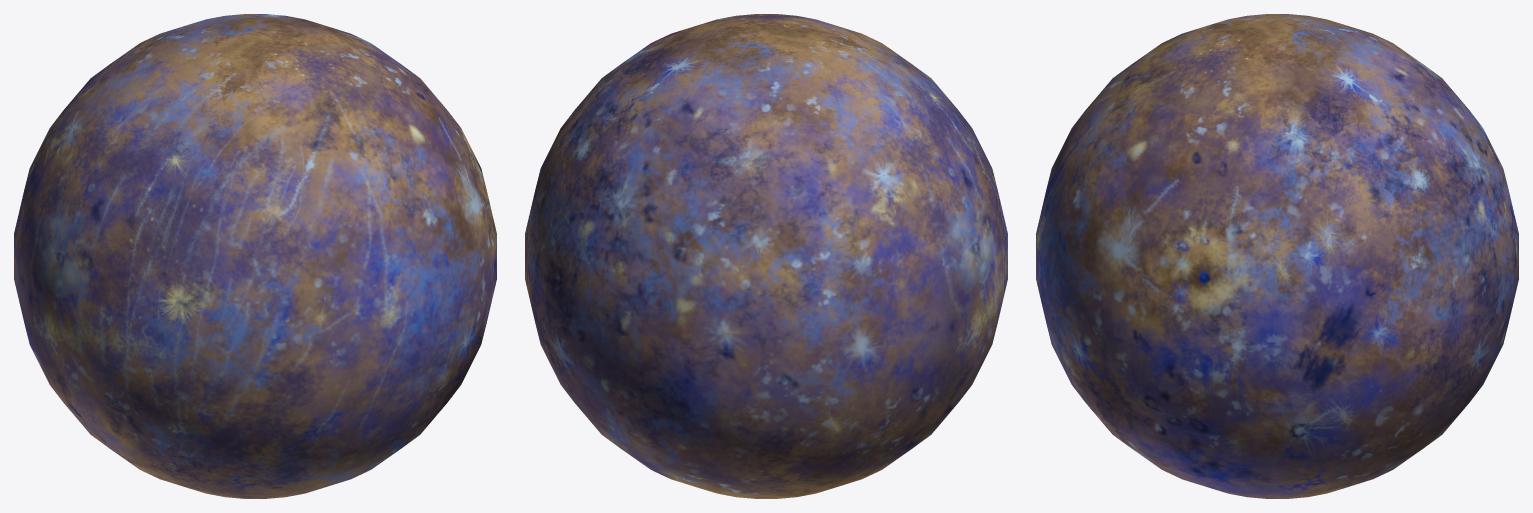
The model's file is mercurio.glb.
3 views of the same model, side by side, from view 1: azimuth 30°, elevation 25°; view 2: azimuth 150°, elevation 25°; view 3: azimuth 270°, elevation 25° (orthographic).
Parts seen in each view (by area): view 1: New; view 2: New; view 3: New.
Part boxes in pixels (bbox=[...]): New: bbox=[14, 14, 496, 498]; New: bbox=[525, 14, 1007, 498]; New: bbox=[1036, 14, 1518, 498].
Bounding box in the file's own units: 1.2 × 1.22 × 1.21.
Materials: 1 (1 with a texture image).
